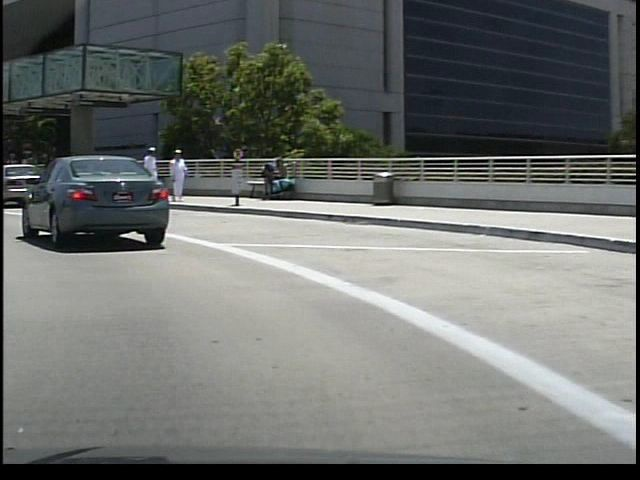person: (56, 148, 82, 213), (130, 143, 160, 199), (162, 145, 185, 202)
